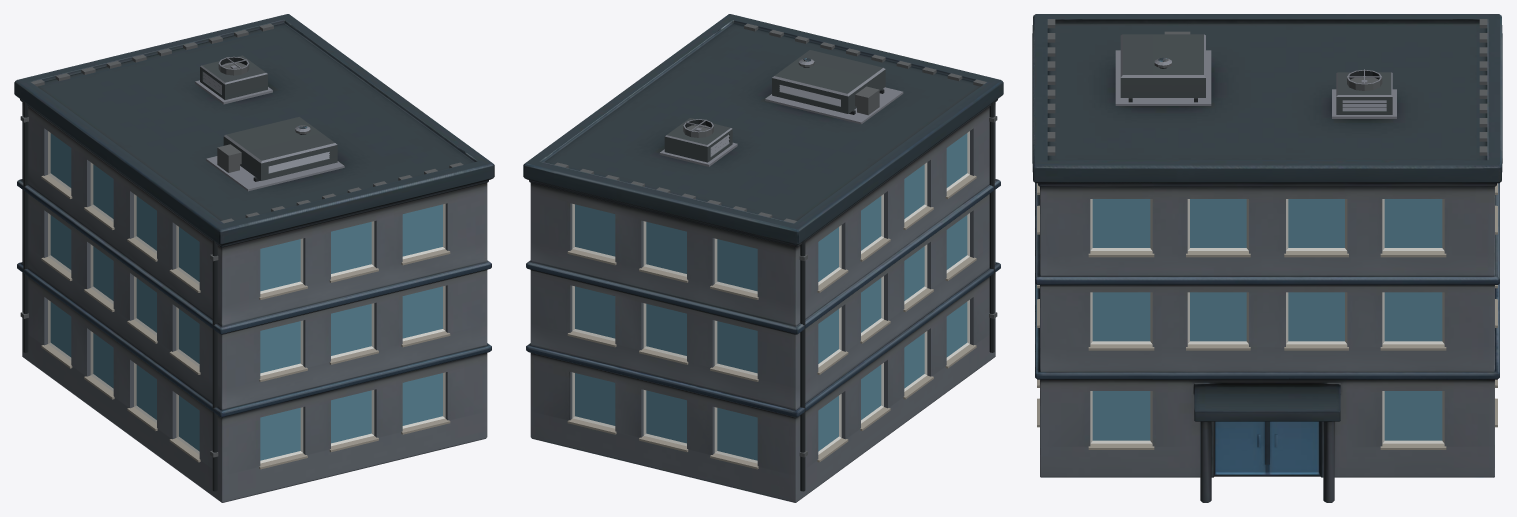
The model's file is office-apartment-three-crafted.glb.
3 renders of one model, left to right at view 1: azimuth 30°, elevation 25°; view 2: azimuth 150°, elevation 25°; view 3: azimuth 270°, elevation 25°, orthographic. The views are drawn at different scales.
Visible parts, largest first — view 1: tripo_node_da878c89-f8e0-4aef-8efa-ad18b47edced; view 2: tripo_node_da878c89-f8e0-4aef-8efa-ad18b47edced; view 3: tripo_node_da878c89-f8e0-4aef-8efa-ad18b47edced.
Part boxes in pixels (bbox=[...]): tripo_node_da878c89-f8e0-4aef-8efa-ad18b47edced: bbox=[14, 14, 494, 502]; tripo_node_da878c89-f8e0-4aef-8efa-ad18b47edced: bbox=[523, 14, 1003, 502]; tripo_node_da878c89-f8e0-4aef-8efa-ad18b47edced: bbox=[1032, 14, 1502, 502].
Bounding box in the file's own units: 0.863 × 0.7826 × 0.9648.
Materials: 1 (1 with a texture image).
